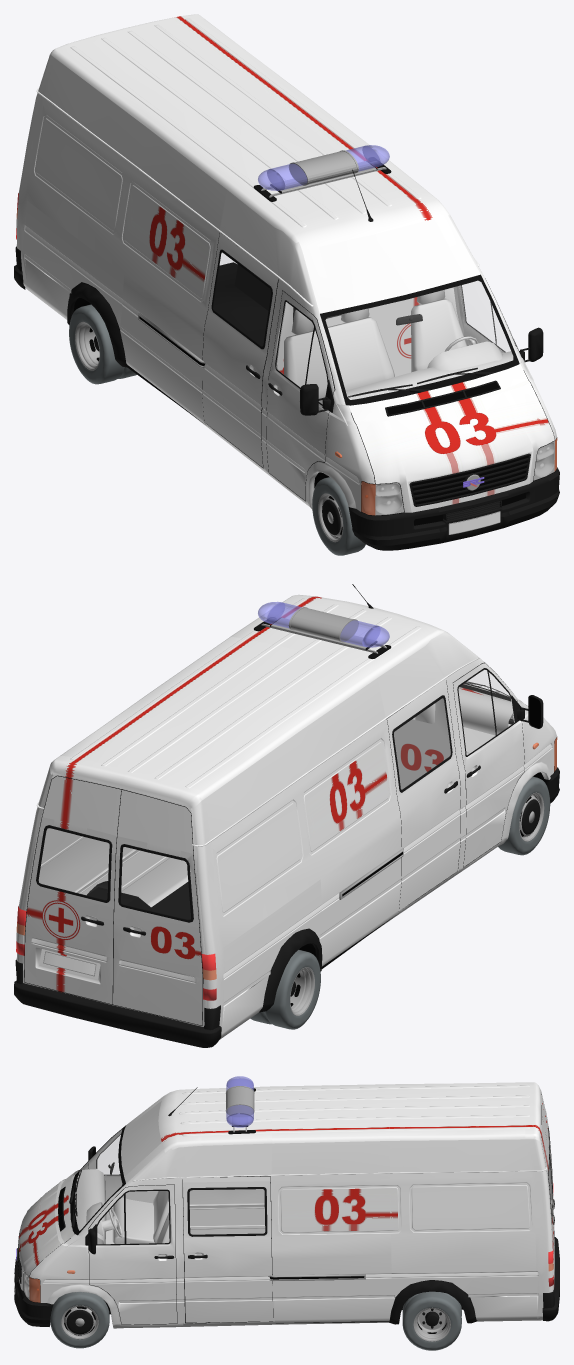
Rendered from ambulance.glb.
3 renders of one model, top to bottom at view 1: azimuth 30°, elevation 25°; view 2: azimuth 150°, elevation 25°; view 3: azimuth 270°, elevation 25°, orthographic. The views are drawn at different scales.
Parts seen in each view (by area): view 1: 3DSMeshMatrix (×20); view 2: 3DSMeshMatrix (×19); view 3: 3DSMeshMatrix (×20).
Boxes of the visible parts, <box> form: 3DSMeshMatrix (×20): <box>14,14,559,555</box>; 3DSMeshMatrix (×19): <box>14,584,559,1047</box>; 3DSMeshMatrix (×20): <box>14,1078,559,1350</box>.
Bounding box in the file's own units: 59.98 × 71.55 × 157.
22 materials, 2 textured.
